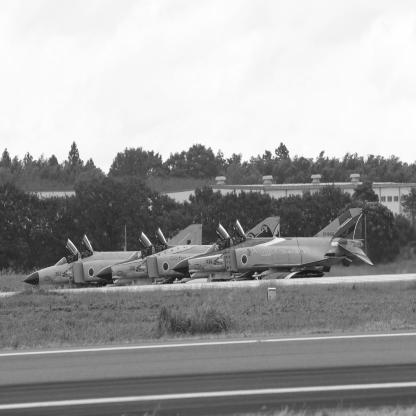F4: (167, 209, 375, 283), (91, 217, 282, 287), (19, 225, 204, 290)
